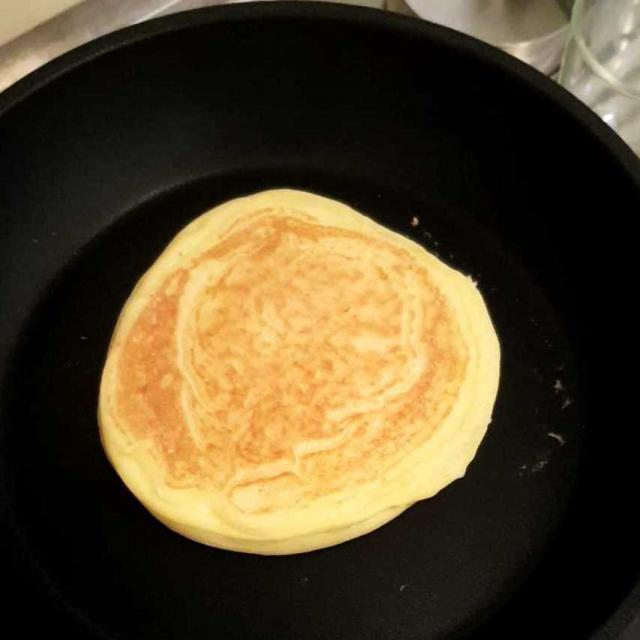bread: (108, 195, 500, 541)
